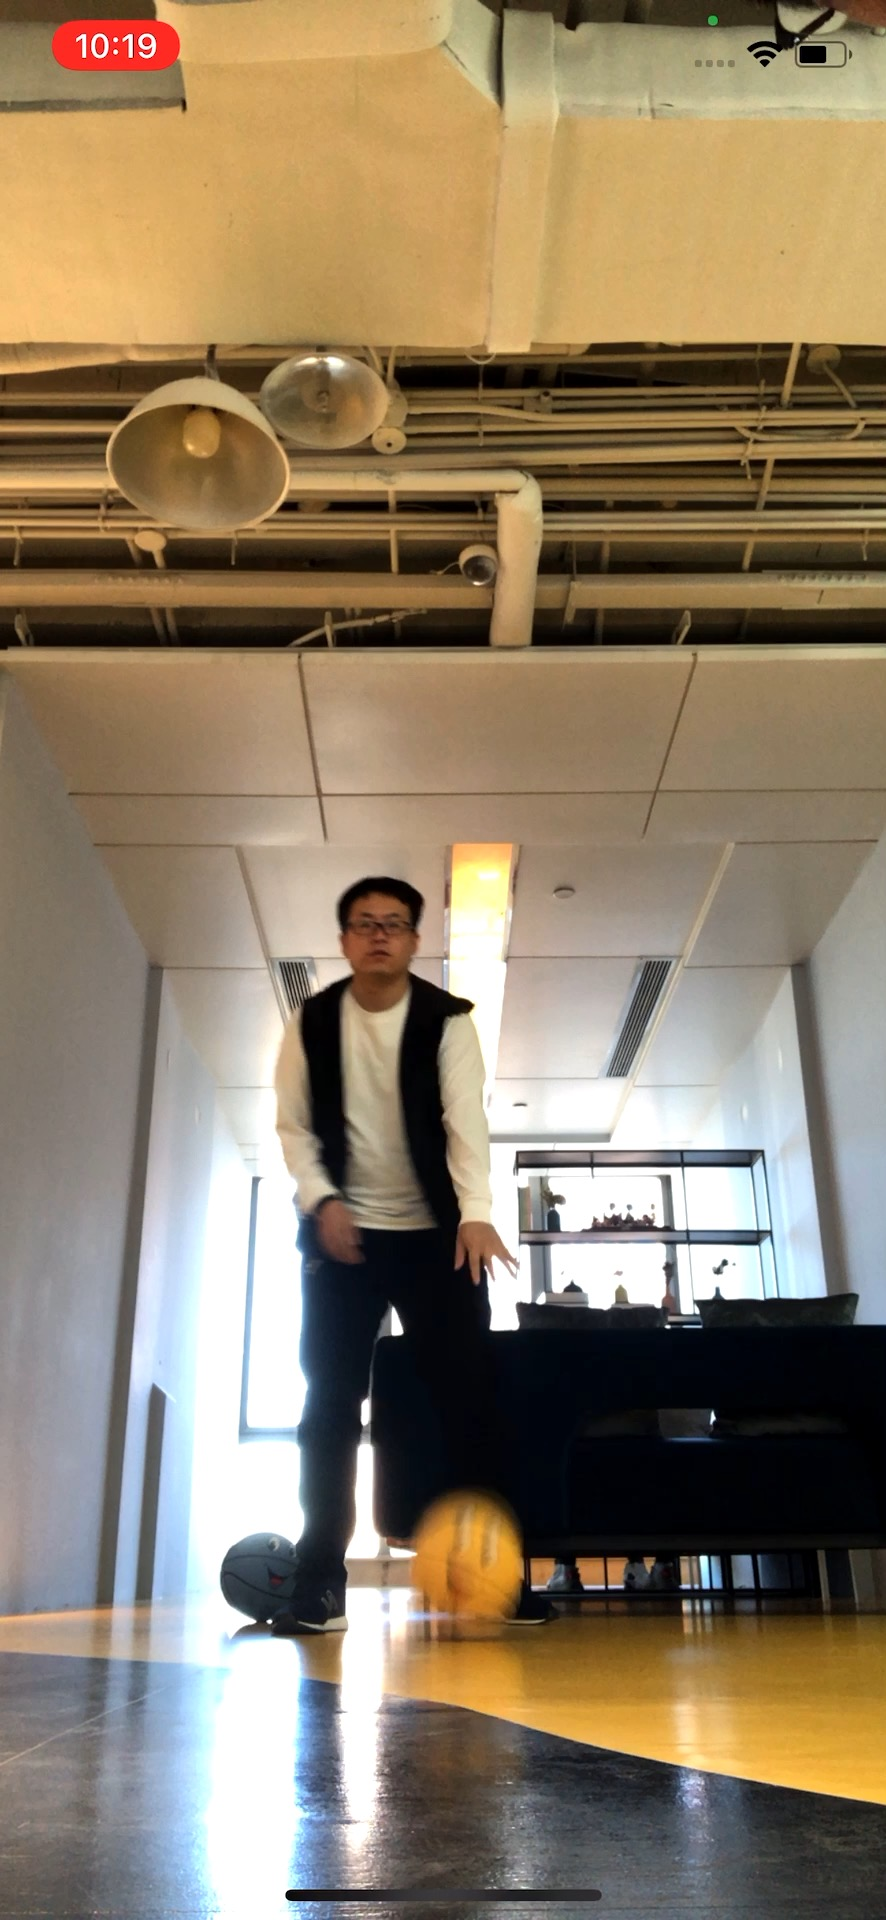ball: (408, 1496, 525, 1627), (219, 1529, 310, 1619)
